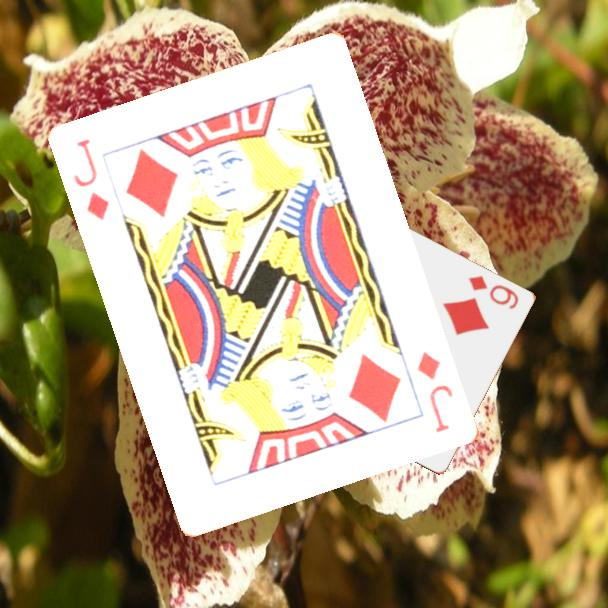d06: (464, 272, 521, 312)
d11: (70, 135, 113, 224), (414, 348, 456, 436)
